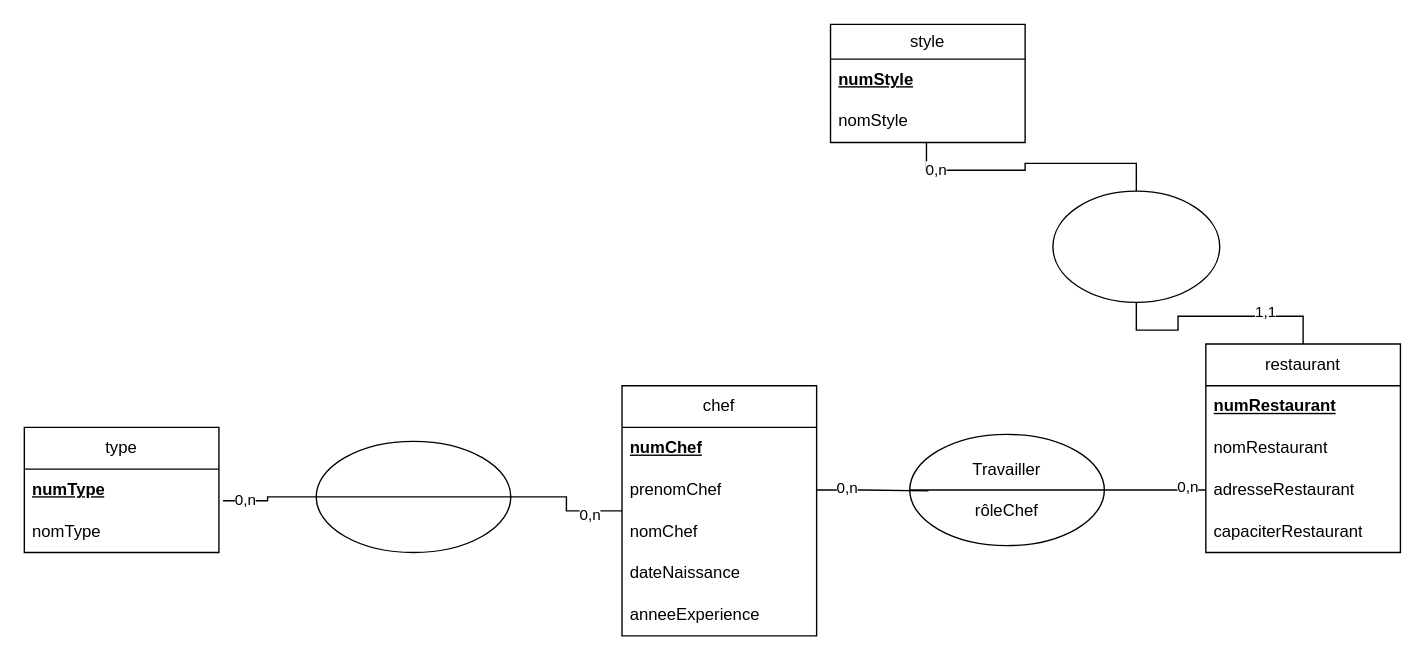
The diagram is 1425 pixels wide and 660 high, and some of its shapes have lost their labels. Each missing label, with the centre of its shape:
"Qualifier" belongs at (1136,246).
"Specialiser" belongs at (413,496).
